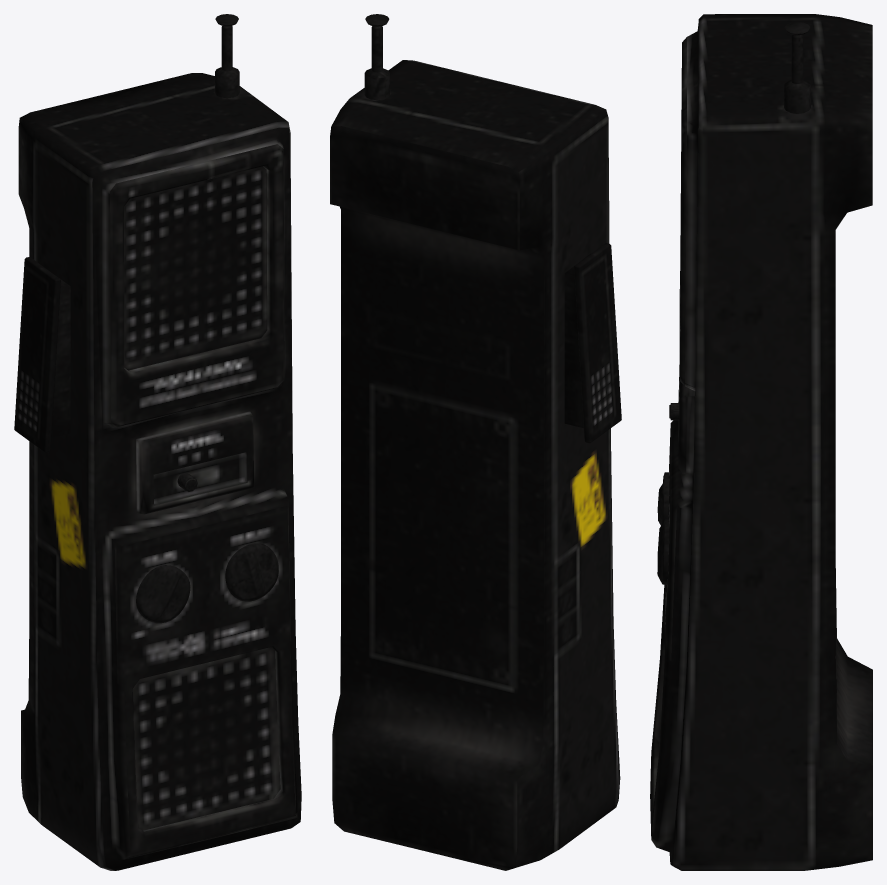
Rendered from radio.fbx.
3 renders of one model, left to right at view 1: azimuth 30°, elevation 25°; view 2: azimuth 150°, elevation 25°; view 3: azimuth 270°, elevation 25°, orthographic. The views are drawn at different scales.
Parts seen in each view (by area): view 1: radio; view 2: radio; view 3: radio.
Boxes of the visible parts, x1,y1,x2,y2 form: radio: [14, 14, 301, 870]; radio: [330, 14, 621, 870]; radio: [650, 14, 872, 870].
Bounding box in the file's own units: 2.43 × 7.71 × 1.86.
